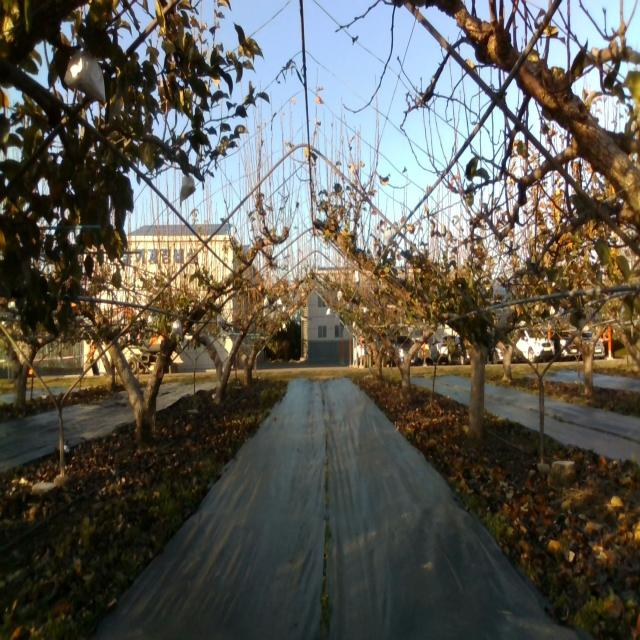pearbags: (64, 49, 106, 106), (180, 176, 197, 203), (170, 319, 182, 339), (383, 227, 393, 246)
